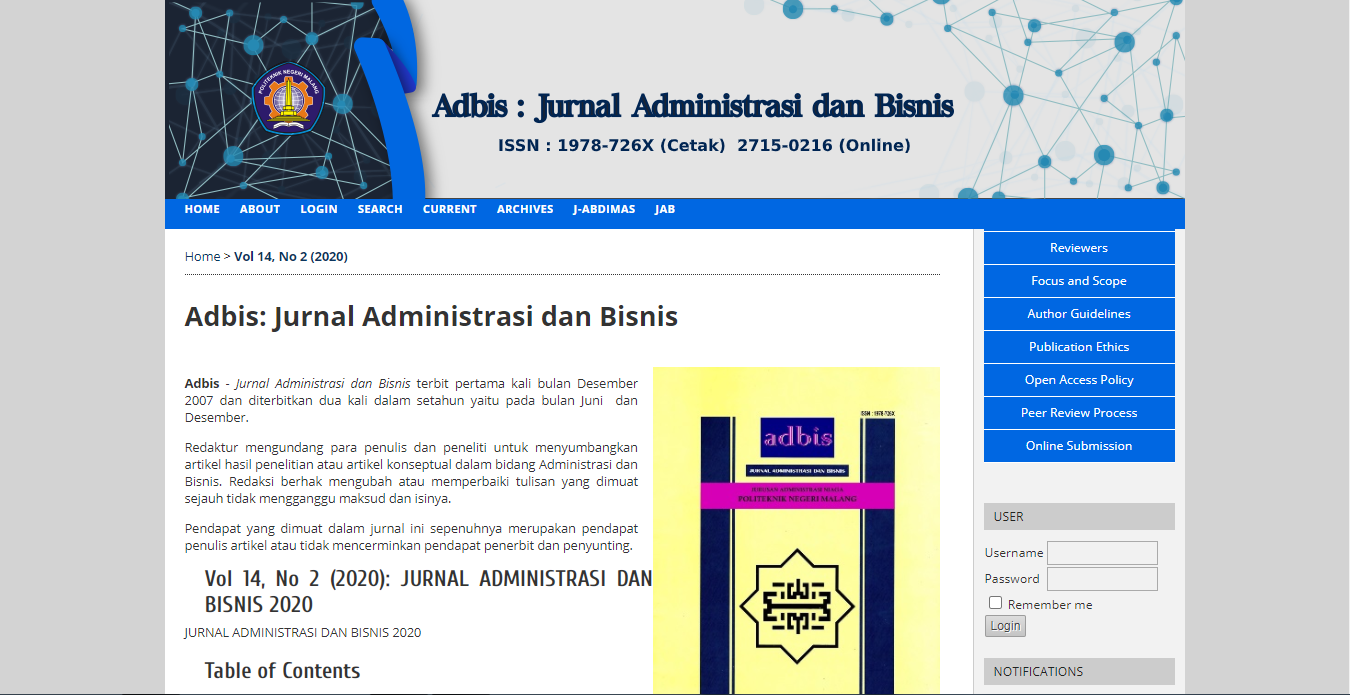Button: (984, 230, 1174, 265), (984, 265, 1177, 299), (983, 299, 1176, 332), (981, 364, 1177, 396), (984, 429, 1178, 461), (981, 396, 1174, 428), (983, 331, 1176, 363), (981, 611, 1027, 638)
Image: (165, 1, 1186, 197), (652, 367, 943, 695)
Menu Bar: (165, 197, 685, 228)
Nav Bar: (233, 245, 351, 270), (182, 245, 224, 269)
Side Bar: (972, 230, 1185, 695)
Text Field: (1043, 566, 1161, 592), (1045, 540, 1160, 566)
